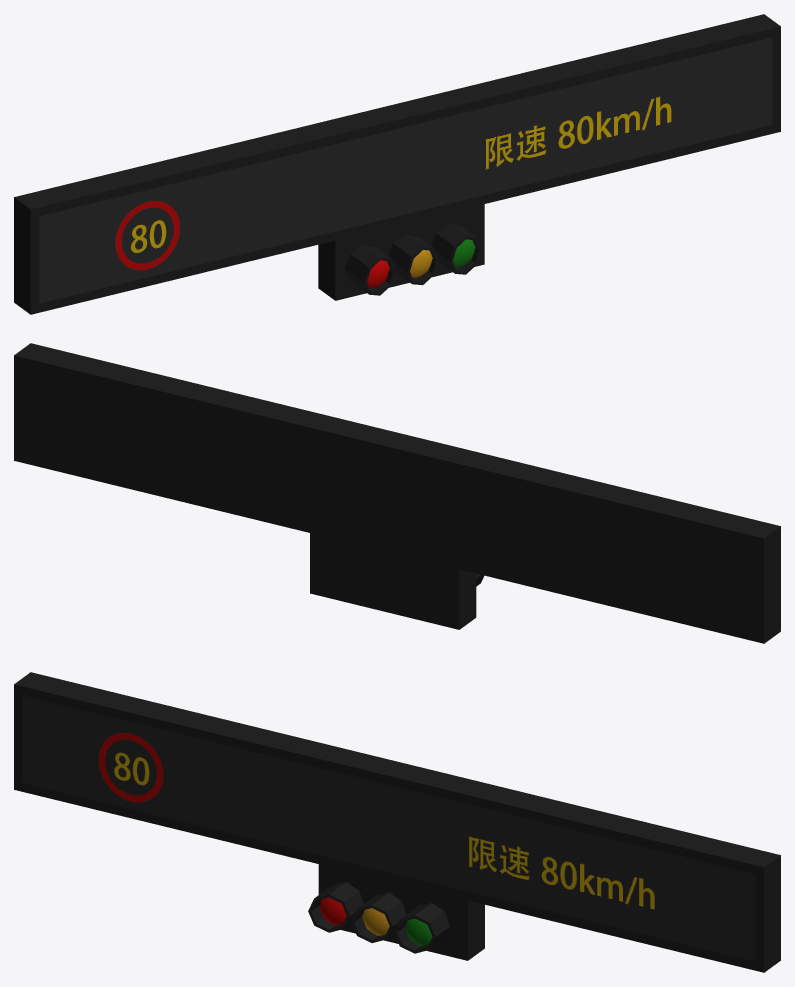
The model's file is lights.obj.
3 views of the same model, one above another, from view 1: azimuth 30°, elevation 25°; view 2: azimuth 150°, elevation 25°; view 3: azimuth 330°, elevation 25° (orthographic).
Parts seen in each view (by area): view 1: ???, HLD1_BLACK; view 2: ???, HLD1_BLACK; view 3: ???, HLD1_BLACK, HLD1_GREEN, HLD1_RED, HLD1_YELLOW.
Part boxes in pixels (x1=…): ???: x1=14, y1=14, x2=780, y2=314; HLD1_BLACK: x1=318, y1=202, x2=484, y2=300; ???: x1=14, y1=343, x2=780, y2=643; HLD1_BLACK: x1=310, y1=530, x2=483, y2=629; ???: x1=14, y1=672, x2=780, y2=972; HLD1_BLACK: x1=308, y1=862, x2=484, y2=960; HLD1_GREEN: x1=405, y1=918, x2=432, y2=946; HLD1_RED: x1=319, y1=897, x2=346, y2=925; HLD1_YELLOW: x1=362, y1=908, x2=389, y2=935.
Size of the model in its own units: 164 by 34.55 by 13.91.
